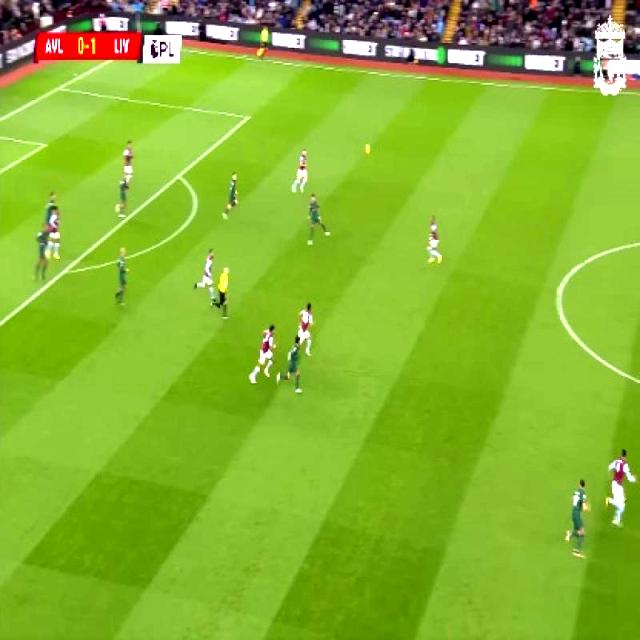bigarea_top_inner: (240, 108, 252, 126)
bigarea_top_outter: (52, 82, 63, 94)
bottom_arc_area_intersection: (57, 264, 68, 279)
smallarea_top_inner: (39, 137, 50, 151)
top_arc_area_intersection: (172, 168, 183, 182)
